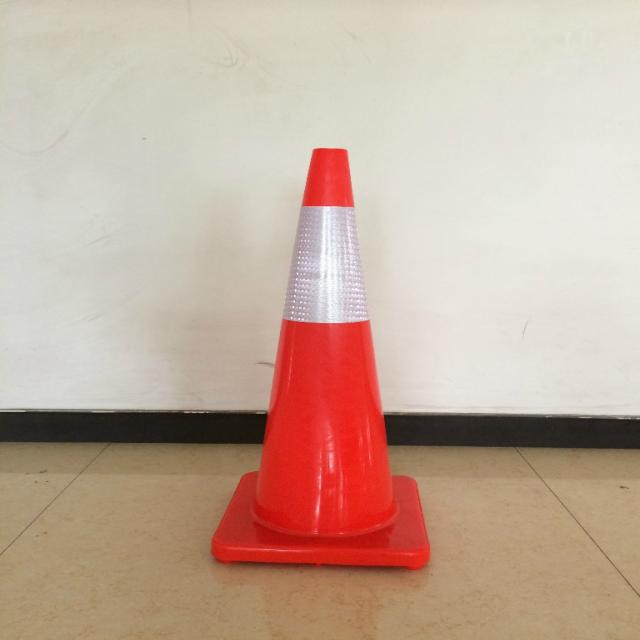reflective_cone: (208, 142, 432, 570)
